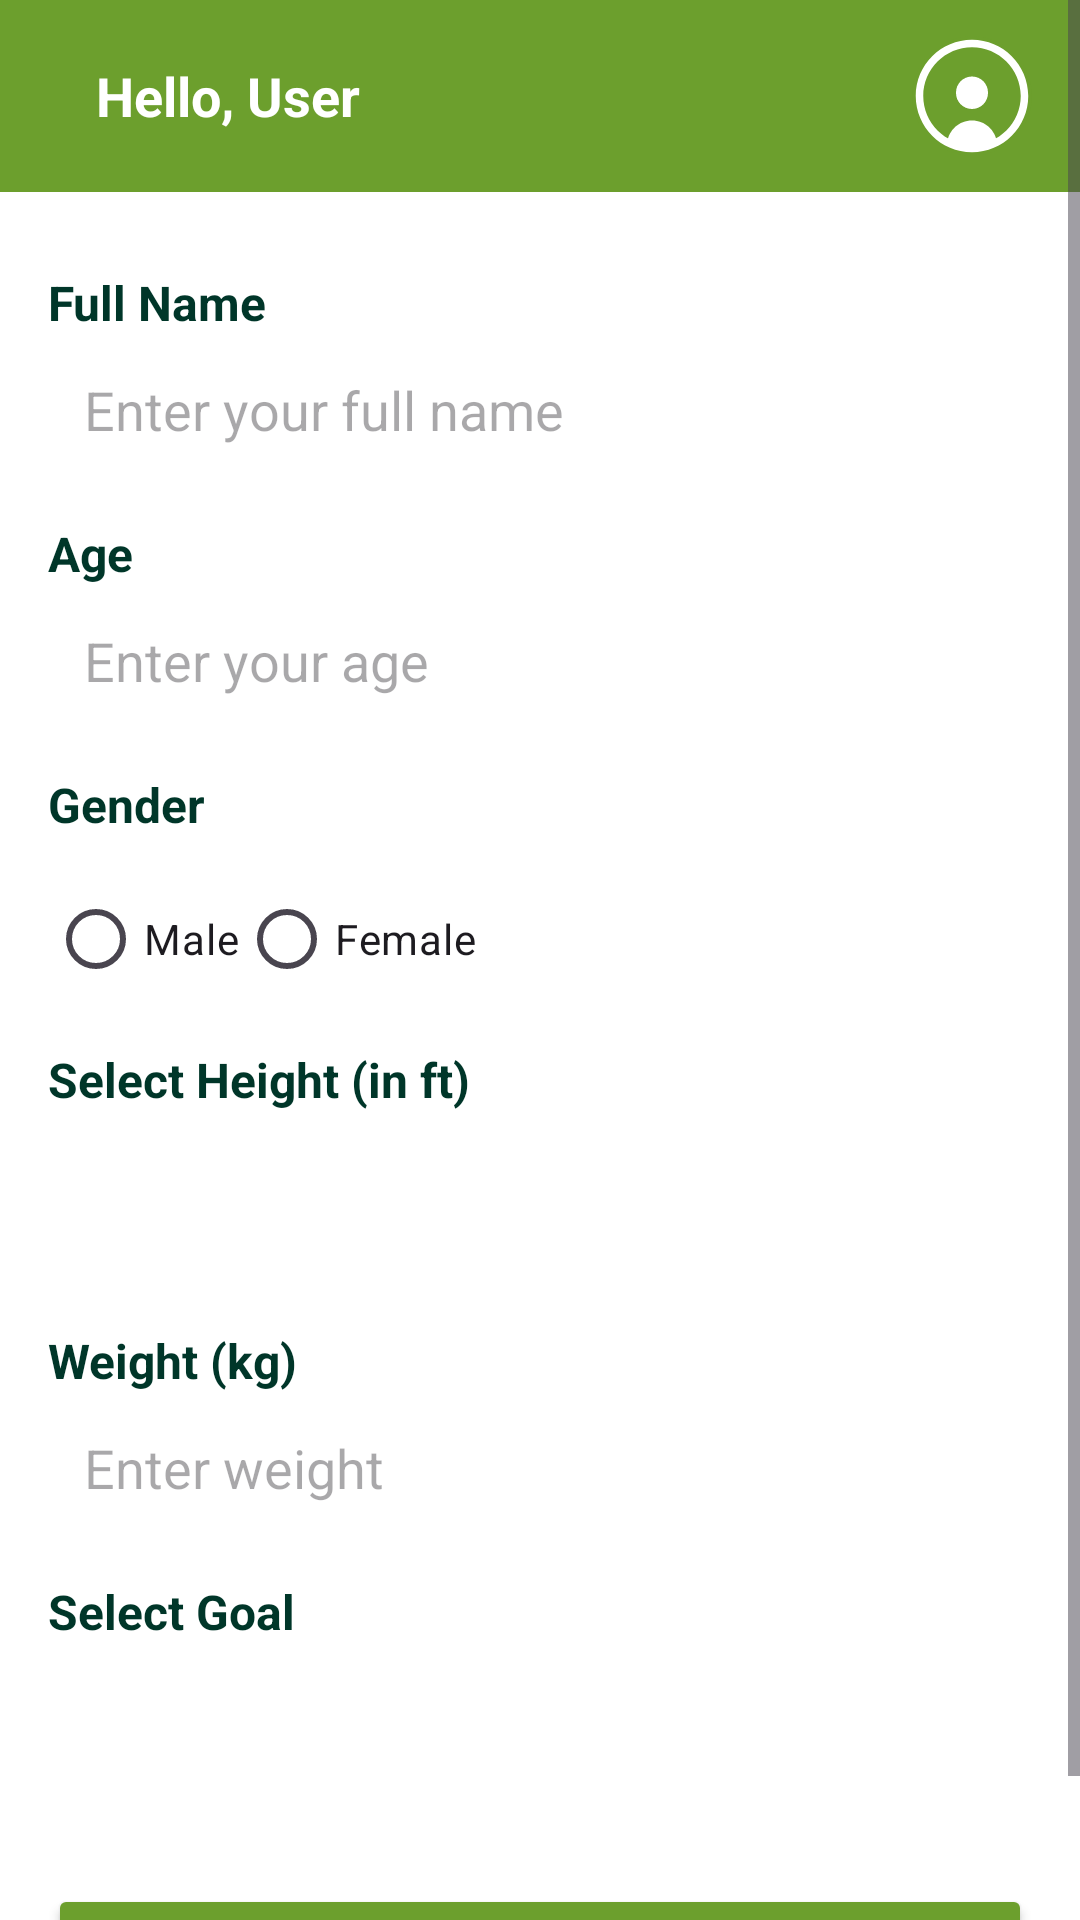

Icons on this 1080px x 1920px Android screen, each with the point to tap as (x,y):
Profile: (972,96)
